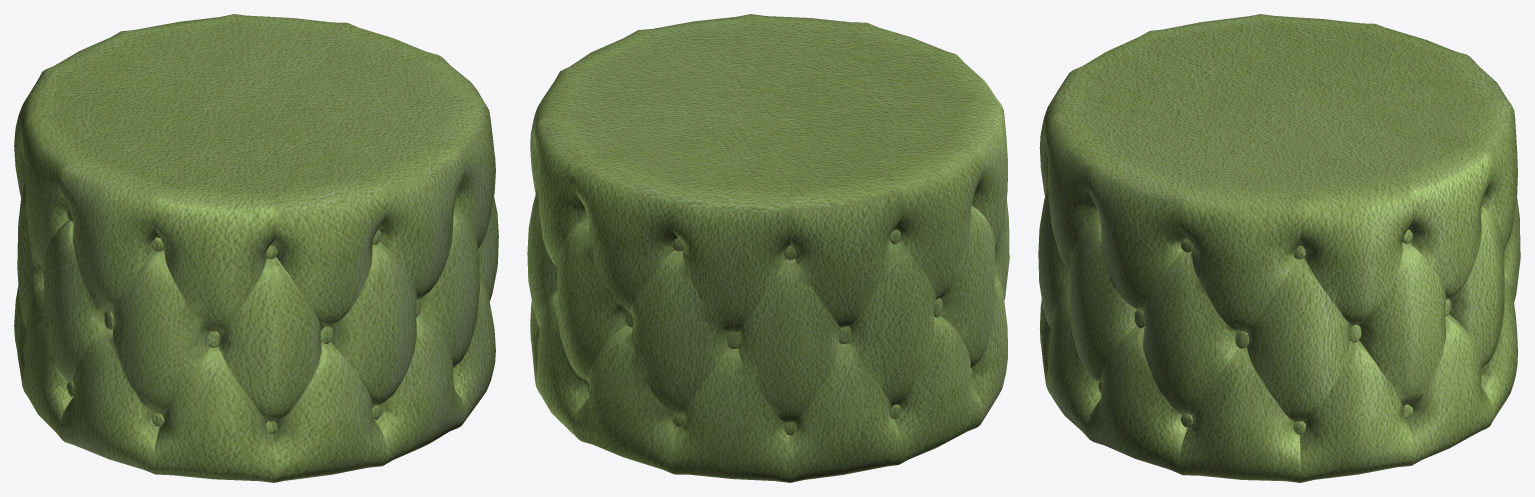
The model's file is raw_model.obj.
The picture shows the model from 3 angles, left to right: view 1: azimuth 30°, elevation 25°; view 2: azimuth 150°, elevation 25°; view 3: azimuth 270°, elevation 25°; orthographic projection.
Visible parts, largest first — view 1: solid_001; view 2: solid_001; view 3: solid_001.
Part boxes in pixels (bbox=[...]): solid_001: bbox=[14, 14, 498, 482]; solid_001: bbox=[527, 14, 1009, 482]; solid_001: bbox=[1038, 14, 1520, 482].
Size of the model in its own units: 0.5651 by 0.3645 by 0.5655.
1 material, 1 textured.
